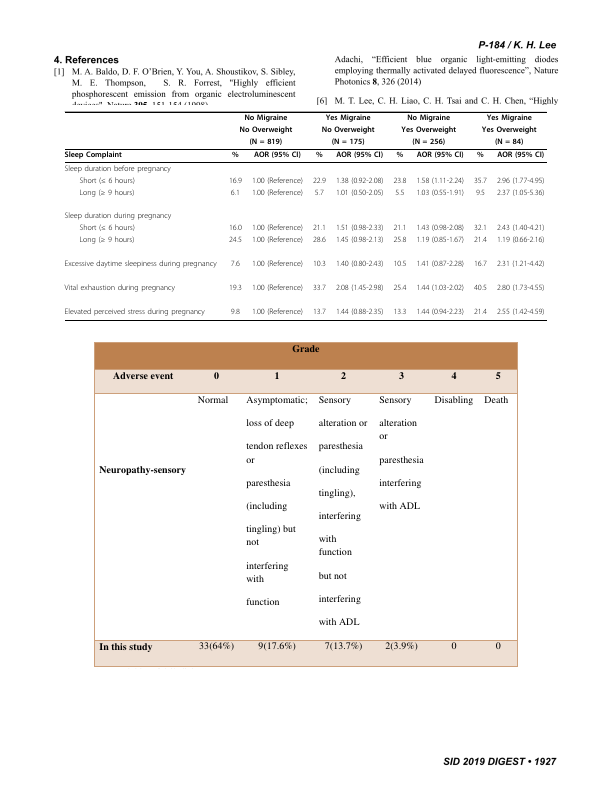bordered: (93, 341, 517, 666)
borderless: (64, 110, 547, 320)
cell: (245, 393, 309, 608), (318, 393, 368, 628), (378, 393, 425, 512), (64, 260, 218, 269), (64, 308, 206, 317), (98, 462, 187, 476), (64, 164, 172, 174), (64, 212, 172, 222), (64, 284, 176, 293), (112, 368, 174, 382), (98, 639, 154, 652), (78, 176, 136, 186), (78, 224, 136, 234), (78, 188, 135, 198), (78, 236, 135, 246), (64, 151, 123, 160), (251, 176, 304, 186), (251, 188, 304, 198), (251, 224, 304, 234), (251, 236, 304, 246), (434, 393, 474, 406), (257, 639, 297, 652), (400, 126, 457, 135), (324, 639, 363, 652), (481, 126, 537, 135), (415, 176, 465, 186), (415, 188, 465, 198), (415, 224, 465, 234), (415, 236, 465, 246), (335, 176, 384, 186), (496, 176, 545, 186), (335, 188, 384, 198), (496, 188, 545, 198), (335, 224, 384, 234), (496, 224, 545, 234), (335, 236, 384, 246), (496, 236, 545, 246), (239, 126, 293, 135), (321, 126, 375, 135), (198, 639, 235, 652), (251, 260, 304, 269), (251, 284, 304, 293), (251, 308, 304, 317), (384, 639, 419, 652), (415, 260, 465, 269), (415, 284, 465, 293), (415, 308, 465, 317), (253, 151, 302, 160), (335, 151, 384, 160), (496, 151, 545, 160), (335, 260, 384, 269), (496, 260, 545, 269), (335, 284, 384, 293), (496, 284, 545, 293), (335, 308, 384, 317), (496, 308, 545, 317), (416, 151, 464, 160), (325, 114, 372, 123), (486, 114, 533, 123), (197, 393, 229, 406), (291, 341, 320, 355), (243, 114, 288, 123), (406, 114, 451, 123), (483, 393, 509, 406), (248, 138, 283, 147), (411, 138, 446, 147), (331, 138, 365, 147), (494, 138, 524, 147), (228, 176, 243, 186), (312, 176, 327, 186), (392, 176, 407, 186), (473, 176, 488, 186), (228, 224, 243, 234), (312, 224, 327, 234), (392, 224, 407, 234), (473, 224, 488, 234), (228, 236, 243, 246), (312, 236, 327, 246), (392, 236, 407, 246), (473, 236, 488, 246), (312, 260, 327, 269), (392, 260, 407, 269), (473, 260, 488, 269), (228, 284, 243, 293), (312, 284, 327, 293), (392, 284, 407, 293), (473, 284, 488, 293), (312, 308, 327, 317), (392, 308, 407, 317), (473, 308, 488, 317), (230, 188, 241, 198), (314, 188, 325, 198), (394, 188, 405, 198), (475, 188, 486, 198), (230, 260, 241, 269), (230, 308, 241, 317), (213, 368, 220, 382), (274, 368, 281, 382), (340, 368, 347, 382), (398, 368, 405, 382), (450, 368, 457, 382), (495, 368, 502, 382), (450, 639, 457, 652), (495, 639, 502, 652), (231, 151, 240, 160), (315, 151, 324, 160), (395, 151, 404, 160), (476, 151, 485, 160)
